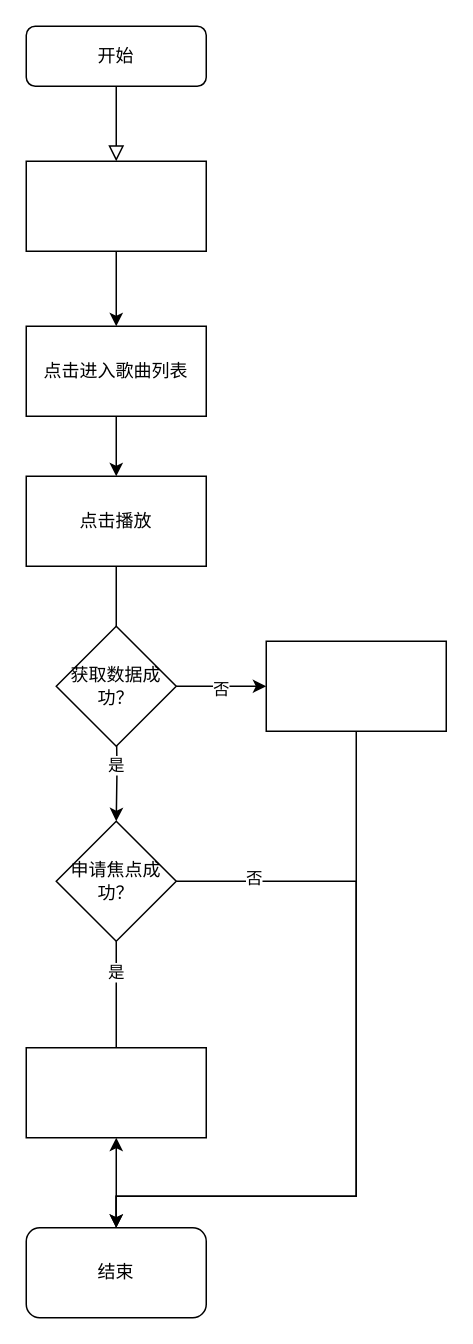
This 473x1344 diagram has some shape labels left out. The shapes that lost their labels are listed below. From the top down, each one's box as (x1, y1, x2, y2) in pixels, then its label:
(25, 160, 206, 251): 打开媒体中心
(265, 640, 446, 731): 出错逻辑
(25, 1046, 206, 1138): 播放
